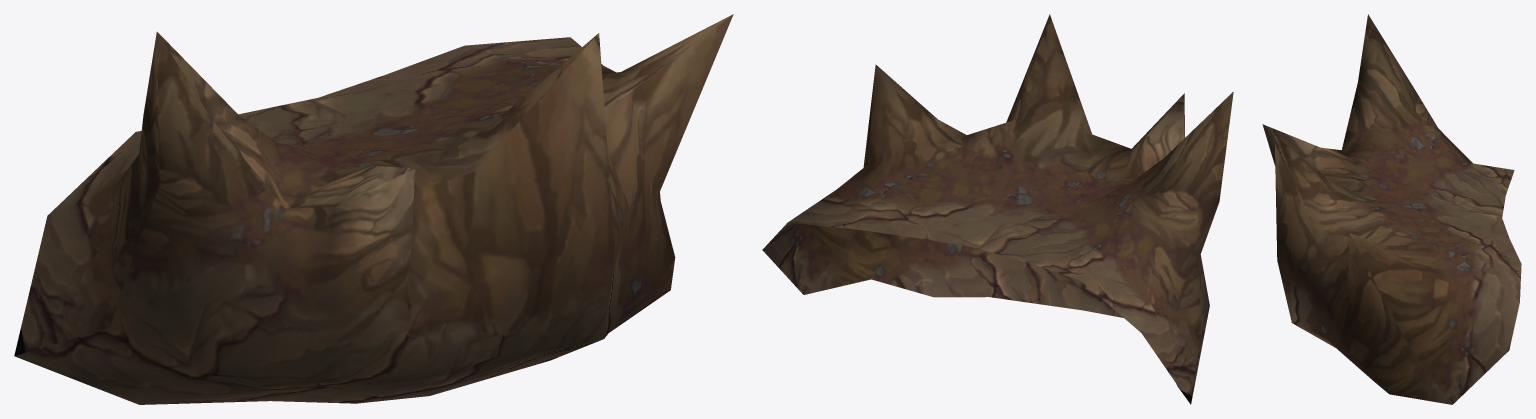
The model's file is Battle02_Stone_07.FBX.
3 renders of one model, left to right at view 1: azimuth 30°, elevation 25°; view 2: azimuth 150°, elevation 25°; view 3: azimuth 270°, elevation 25°, orthographic. The views are drawn at different scales.
Visible parts, largest first — view 1: Battle02_Stone_07; view 2: Battle02_Stone_07; view 3: Battle02_Stone_07.
Boxes of the visible parts, x1,y1,x2,y2 form: Battle02_Stone_07: (14, 14, 733, 404); Battle02_Stone_07: (762, 14, 1233, 404); Battle02_Stone_07: (1262, 14, 1521, 404).
Bounding box in the file's own units: 9.81 × 6.22 × 6.06.
